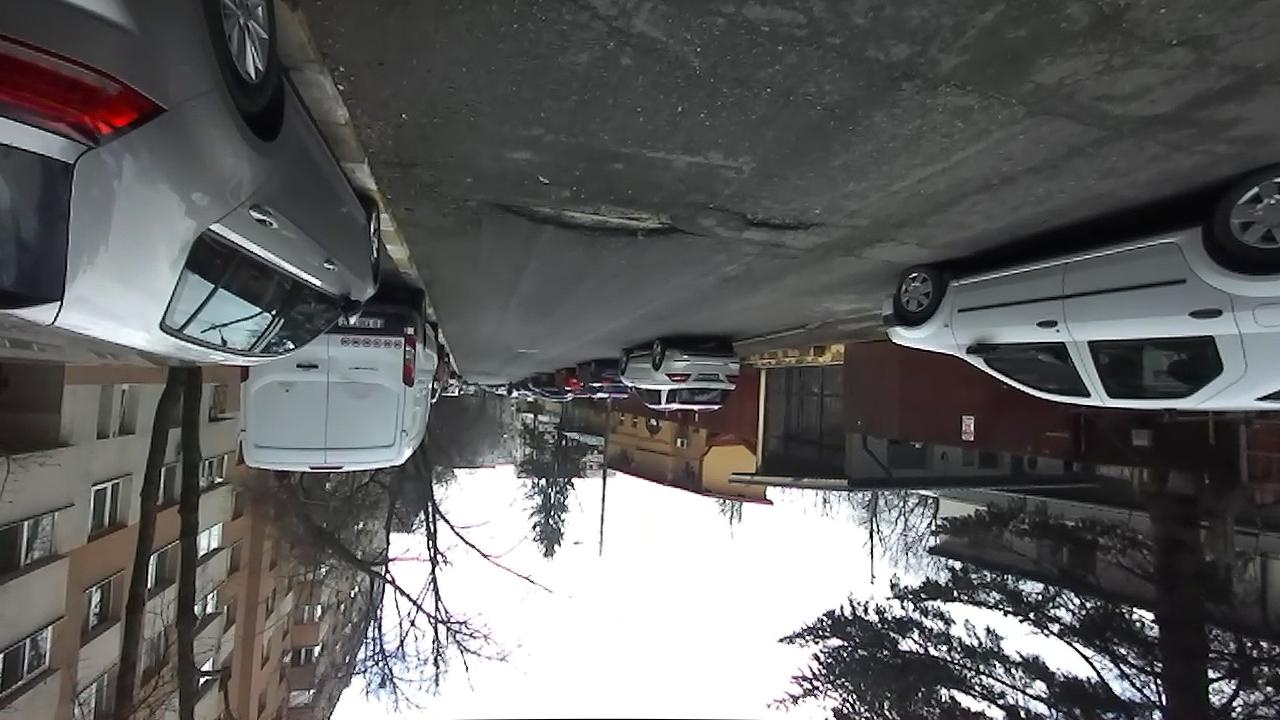pothole: (490, 192, 704, 242), (706, 201, 827, 235)
